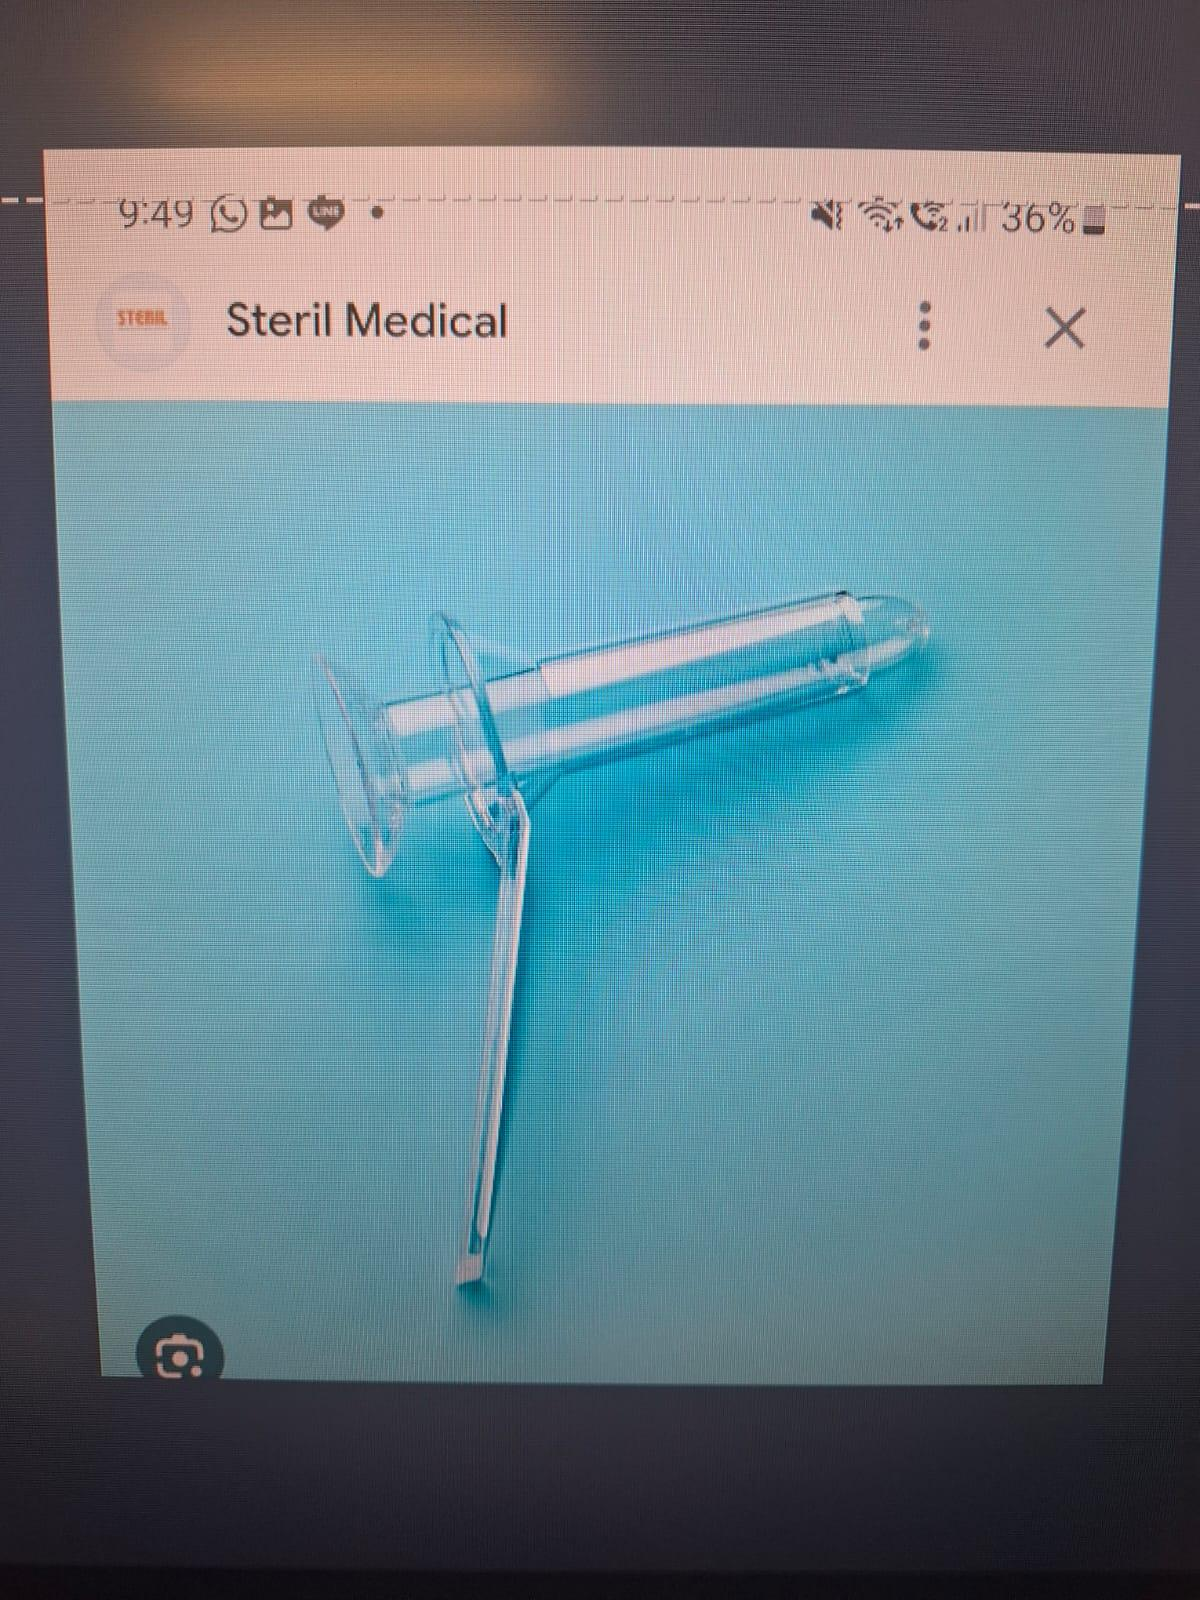Protoscope: (305, 572, 938, 1318)
